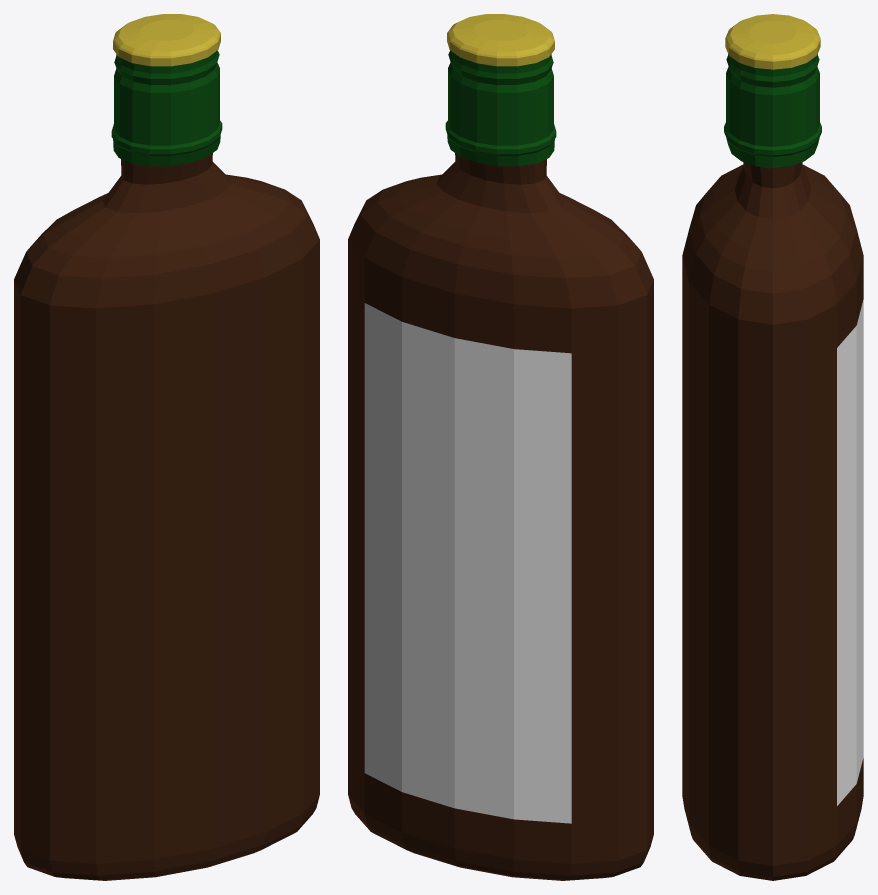
The model's file is jagerfix.glb.
3 views of the same model, side by side, from view 1: azimuth 30°, elevation 25°; view 2: azimuth 150°, elevation 25°; view 3: azimuth 270°, elevation 25° (orthographic). The views are drawn at different scales.
Parts seen in each view (by area): view 1: Cylinder; view 2: Cylinder; view 3: Cylinder.
Part boxes in pixels (x1,y1,x2,y2): Cylinder: (14,14,319,880); Cylinder: (348,14,653,880); Cylinder: (682,14,863,880).
Size of the model in its own units: 1.73 by 4.56 by 0.9515.
